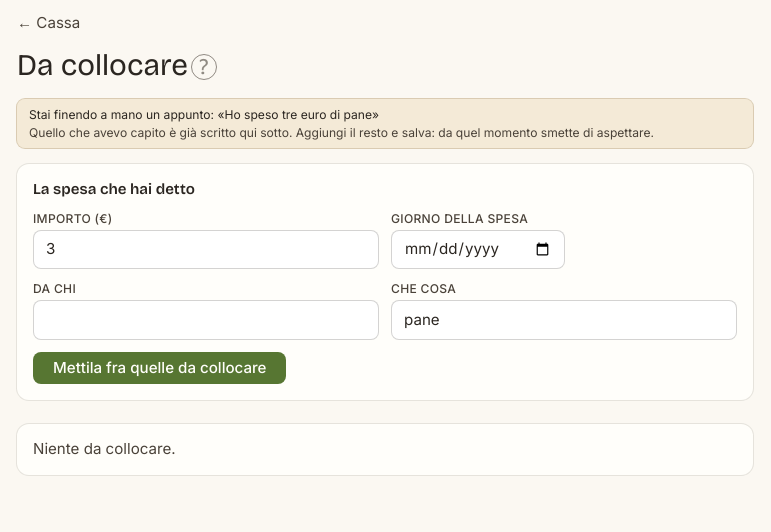
Da collocare — «Fallo a mano» di una spesa detta › se il database rifiuta, lo dice e la scheda resta
Expected: the field showing "pane" is shown, [391,300,737,340]
Click the button "Mettila fra quelle da collocare".
click(160, 368)  # box [33,352,286,384]
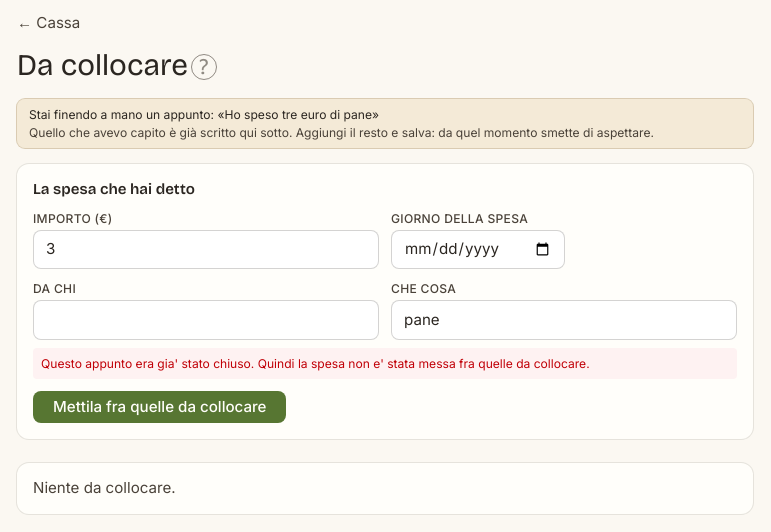
Expected: the button "Mettila fra quelle da collocare" is shown, [33,391,286,423]
Now the message shows "la spesa non e' stata messa", box [41,356,590,371]
